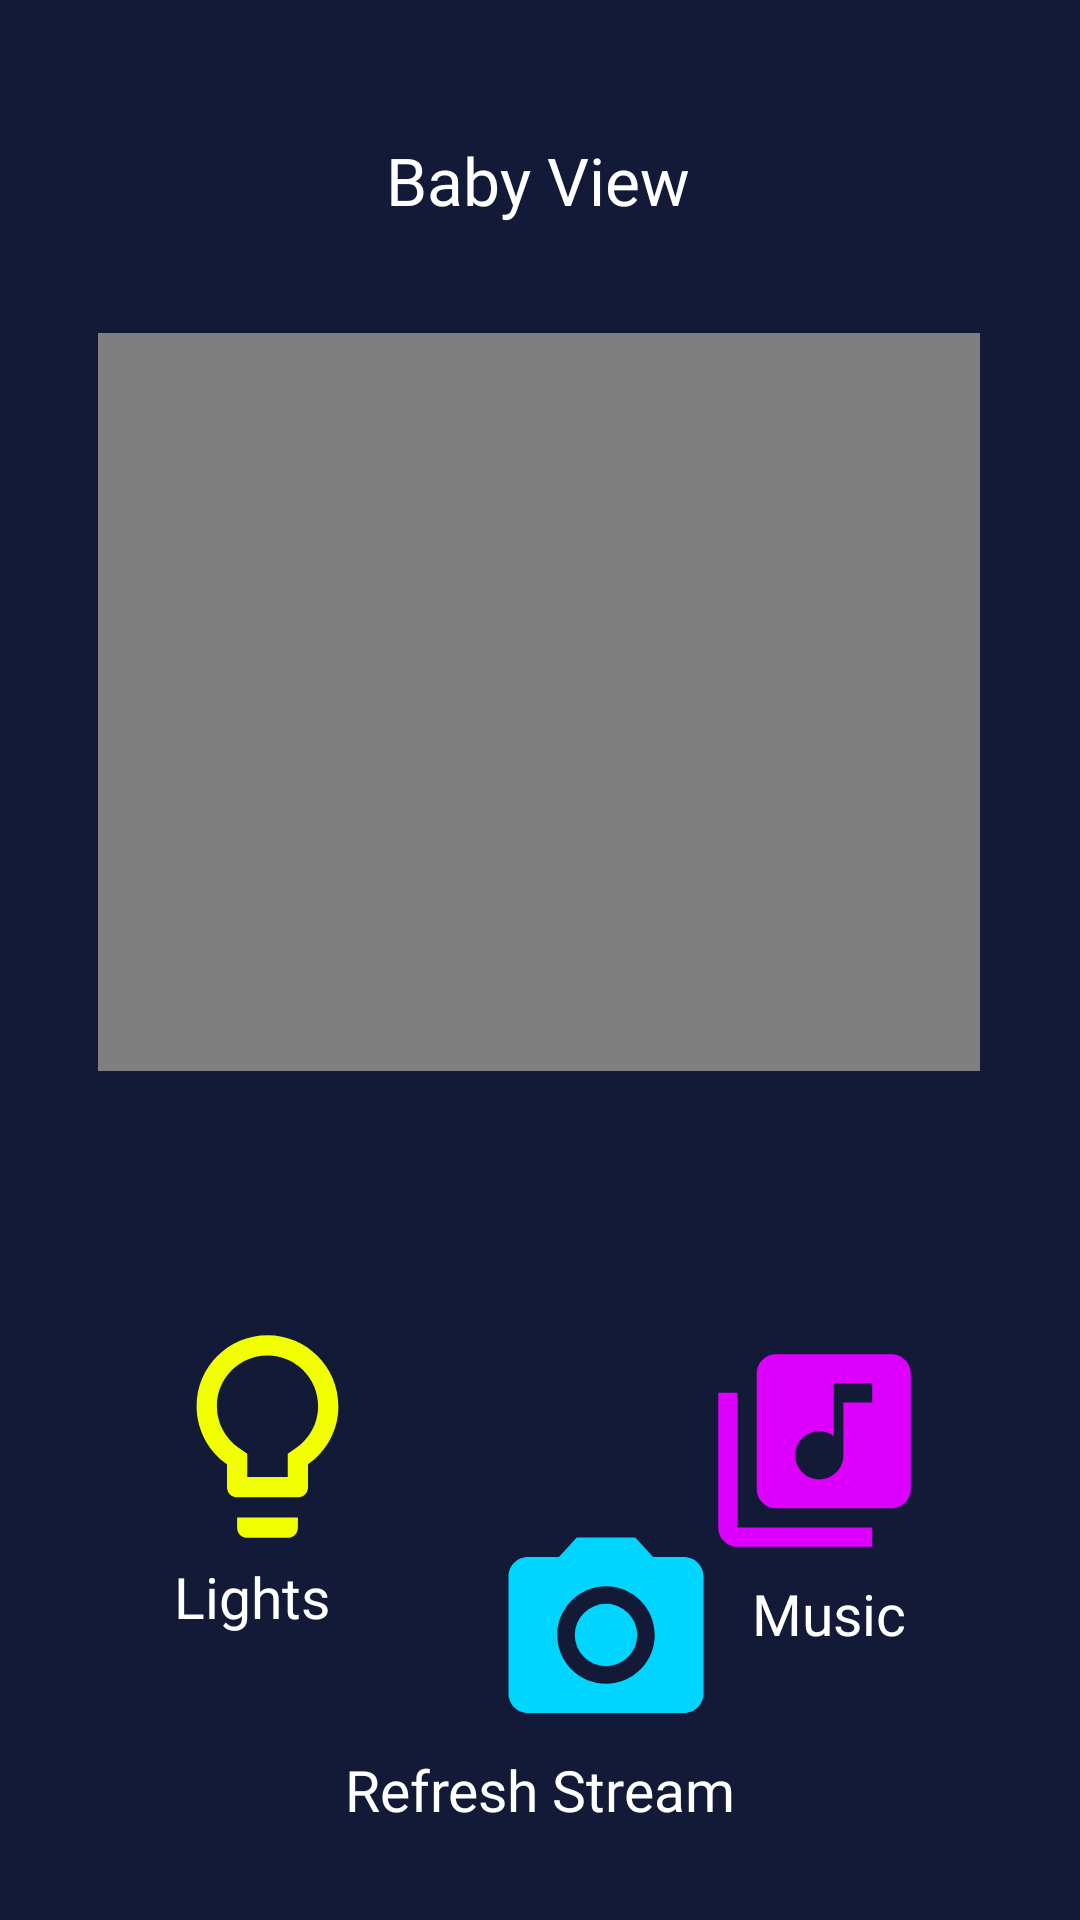

Locate icon controls on the screen. Image size 1080*1920, boxes as (x1, y1, x2, y2).
lightbulb: (196, 1335, 339, 1538)
local see liblue: (508, 1537, 704, 1713)
